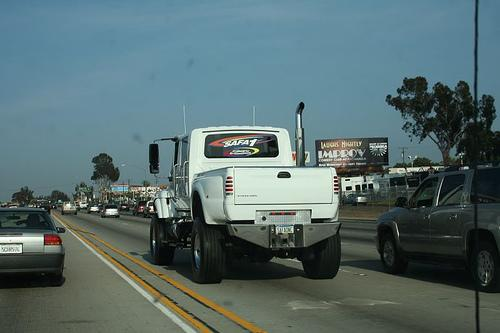truck: (148, 102, 342, 284)
